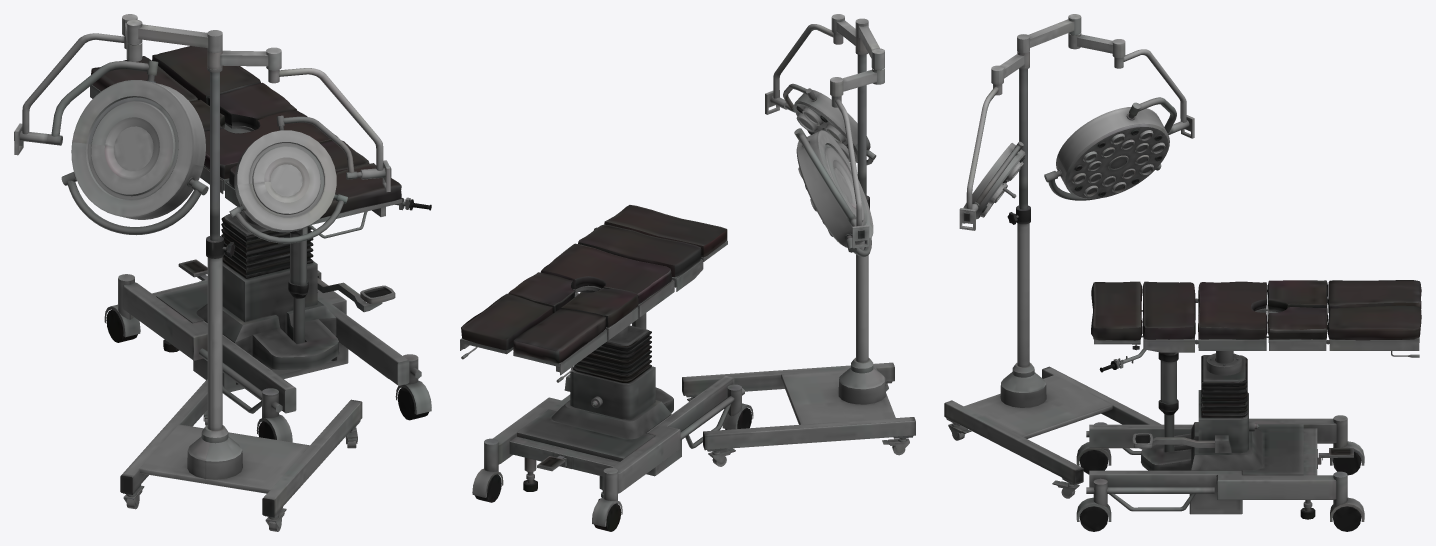
File: SM_OperatingTable_78c2eb.glb
The picture shows the model from 3 angles, left to right: view 1: azimuth 30°, elevation 25°; view 2: azimuth 150°, elevation 25°; view 3: azimuth 270°, elevation 25°; orthographic projection. The views are drawn at different scales.
Bounding box in the file's own units: 2.08 × 2.56 × 2.81.
1 material, 1 textured.
